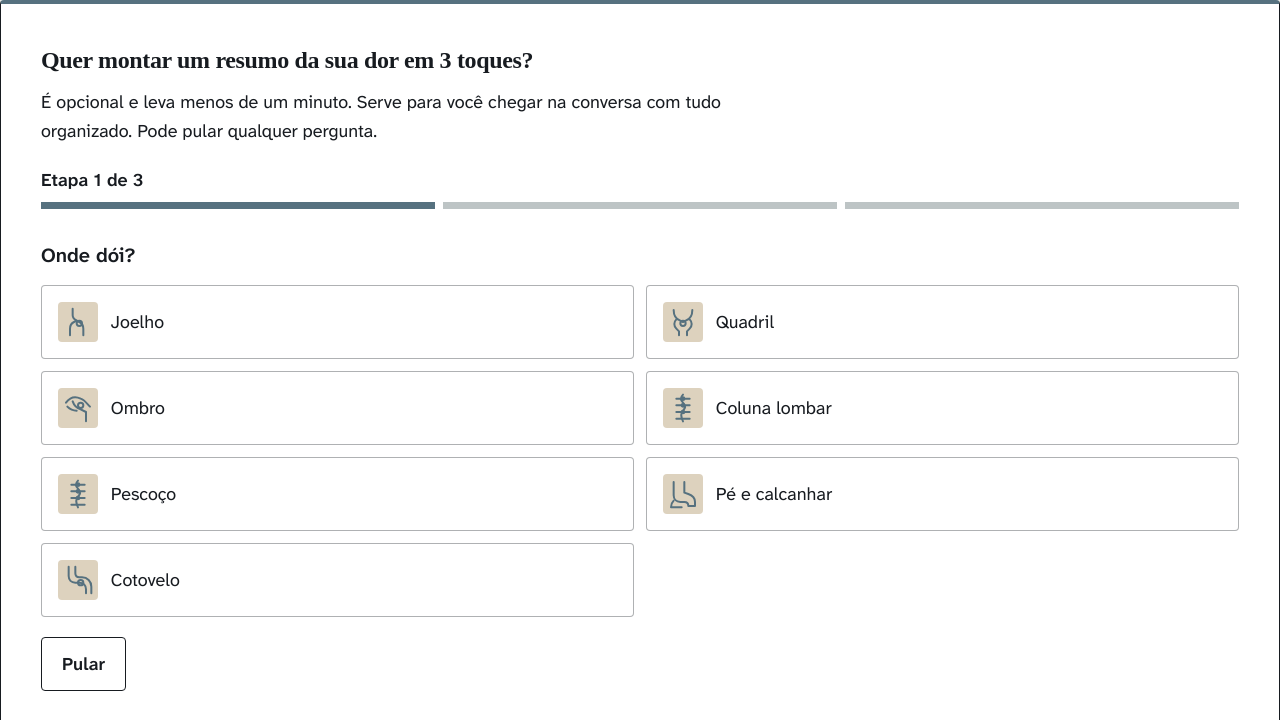
Test: Autoavaliacao › três respostas levam ao resultado com aviso e sem procedimento
Click the button "Joelho": (78, 322) [41, 285, 634, 359]
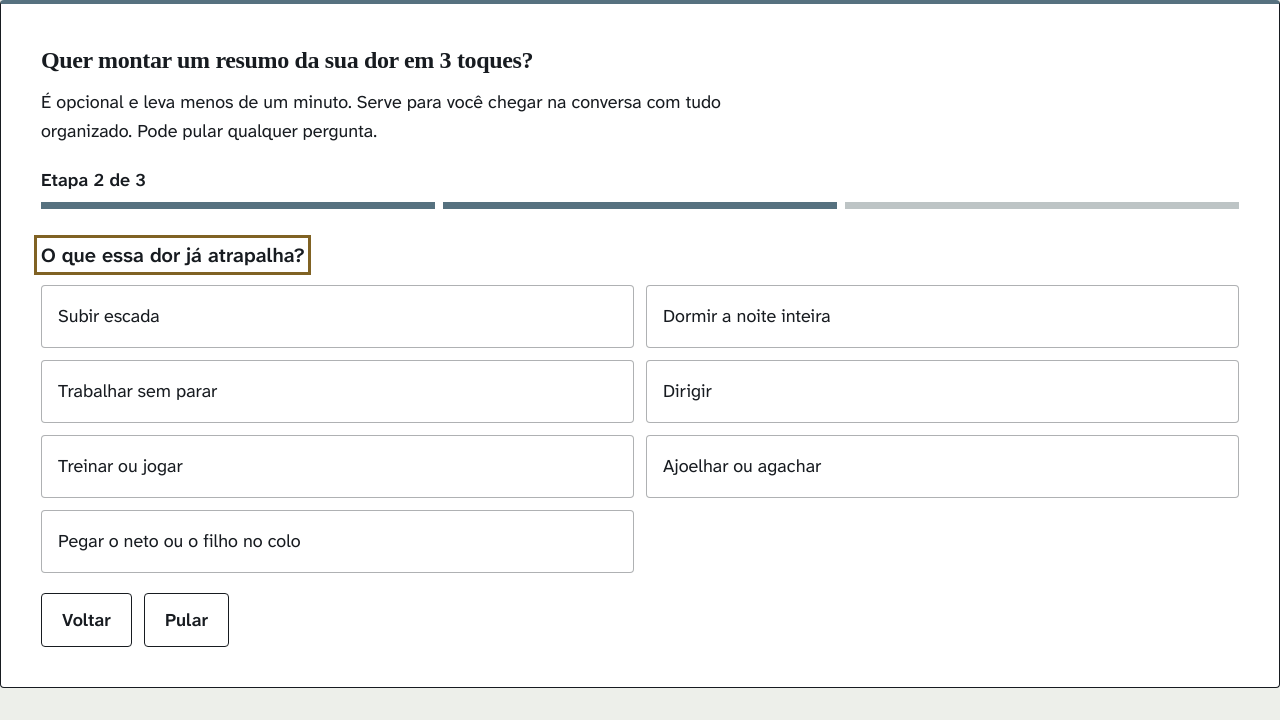
Click the button "Subir escada": (109, 316) [41, 285, 634, 348]
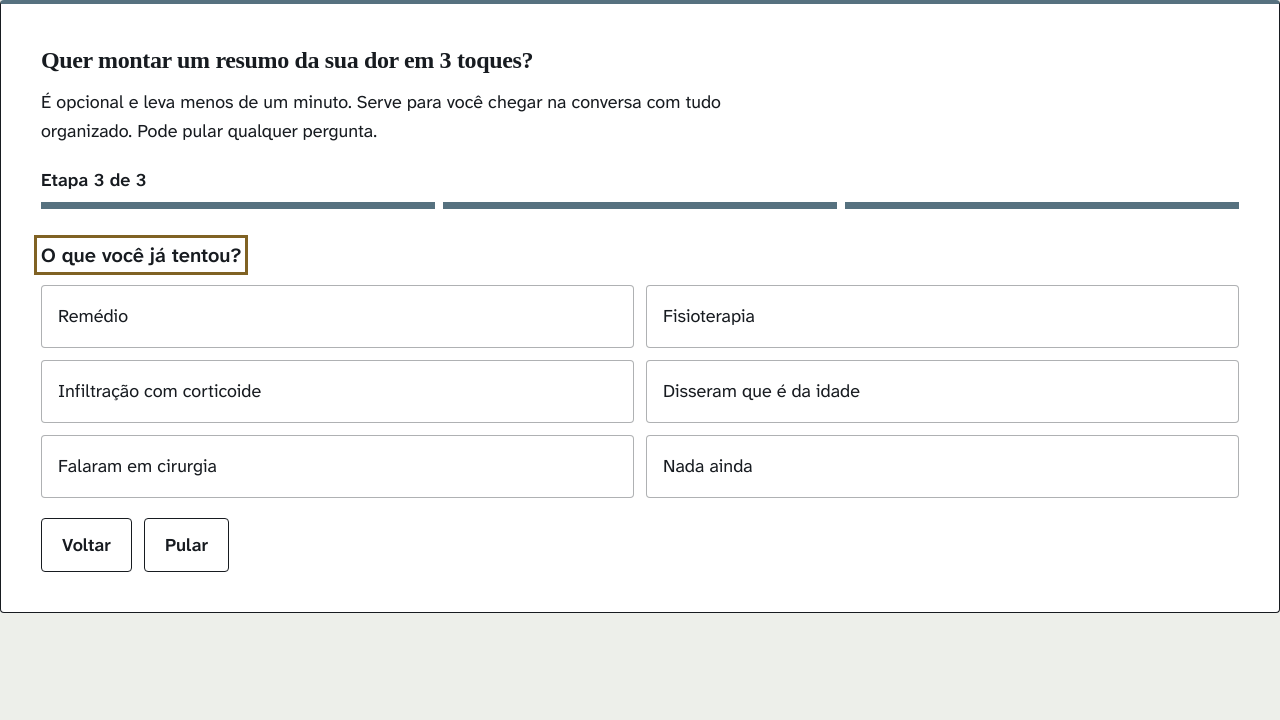
Click the button "Remédio": (93, 316) [41, 285, 634, 348]
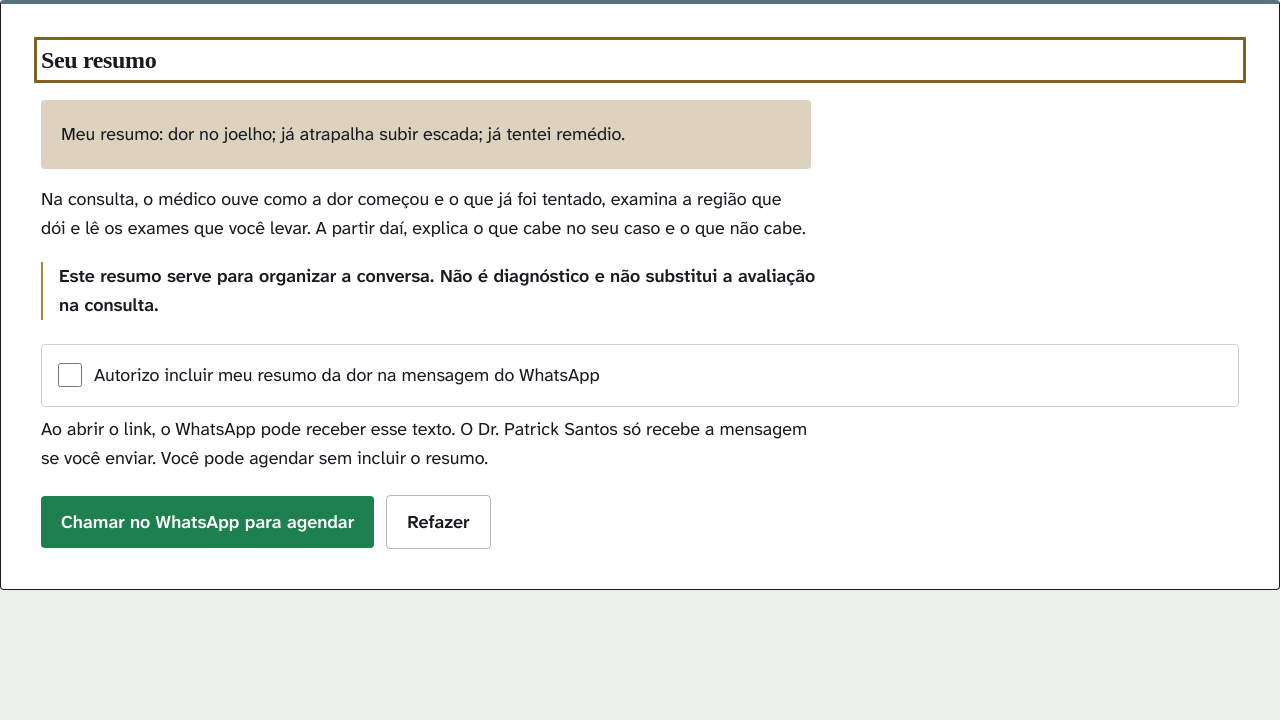
Result: the text "Este resumo serve para organizar a conversa. Não é diagnóstico e não substitui a avaliação na consulta." is shown at [59, 264, 815, 317]
